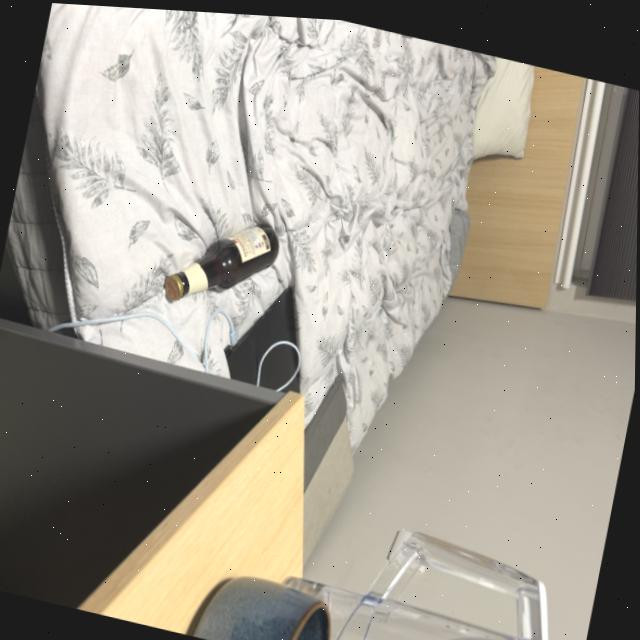beer: (158, 197, 286, 325)
